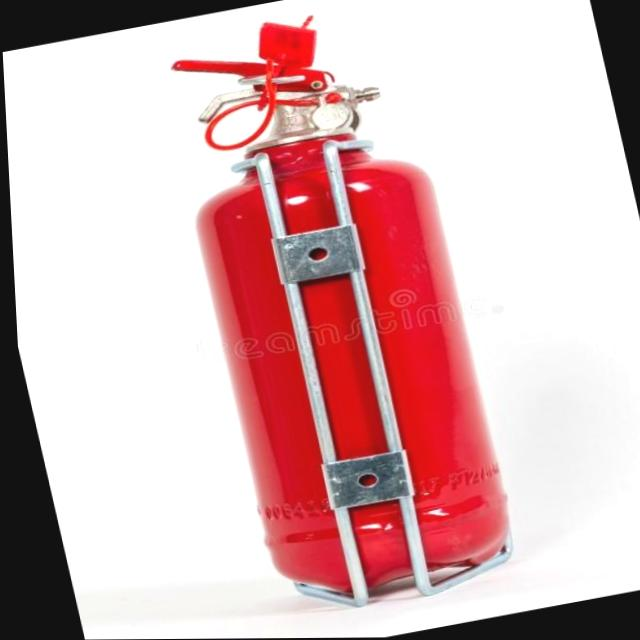FireExtinguisher: (128, 0, 536, 628)
